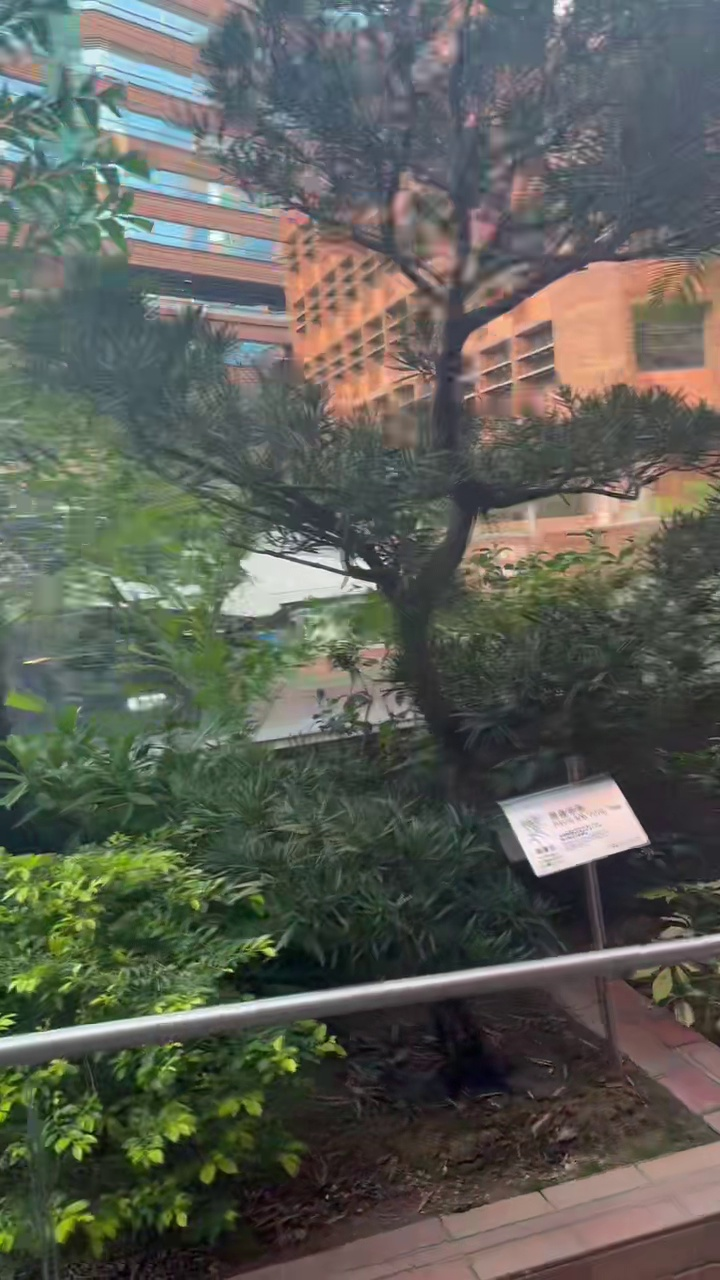Podocarpus macrophyllus: (26, 0, 719, 765)
